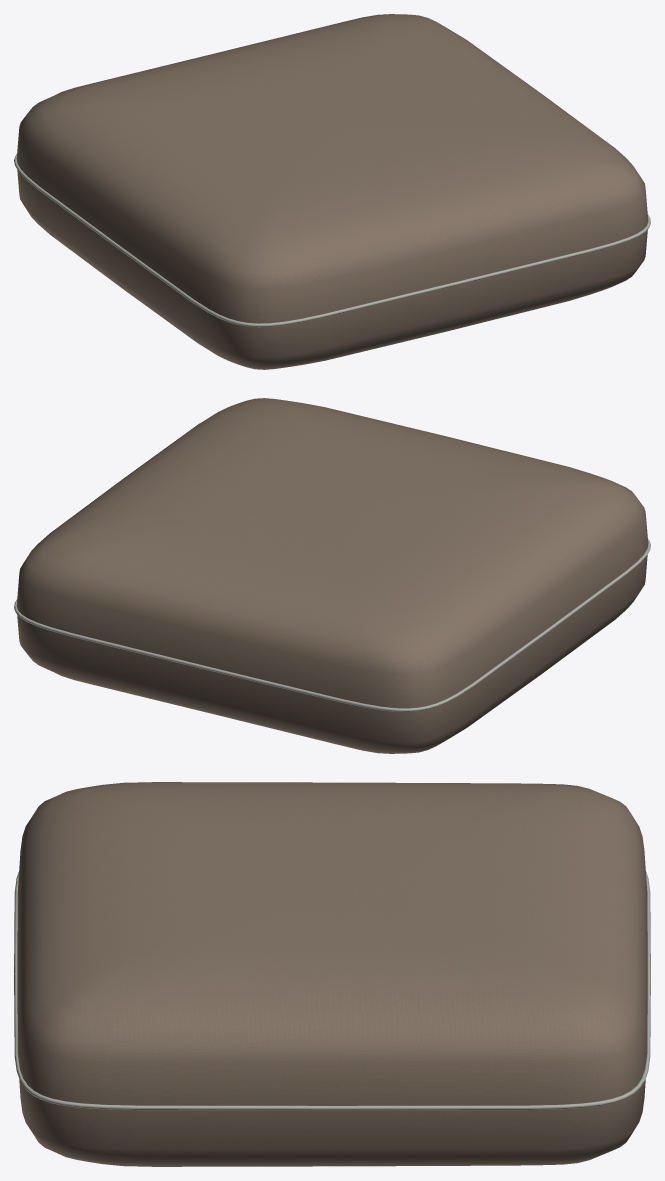
Rendered from industrial.cushion.gltf.
The picture shows the model from 3 angles, top to bottom: view 1: azimuth 30°, elevation 25°; view 2: azimuth 150°, elevation 25°; view 3: azimuth 270°, elevation 25°; orthographic projection. The views are drawn at different scales.
Parts seen in each view (by area): view 1: industrial.cushion.cushion; view 2: industrial.cushion.cushion; view 3: industrial.cushion.cushion.
Boxes of the visible parts, x1,y1,x2,y2 form: industrial.cushion.cushion: (14, 14, 650, 369); industrial.cushion.cushion: (14, 398, 650, 753); industrial.cushion.cushion: (14, 782, 650, 1166).
Bounding box in the file's own units: 0.4745 × 0.15 × 0.4745.
2 materials, 1 textured.
